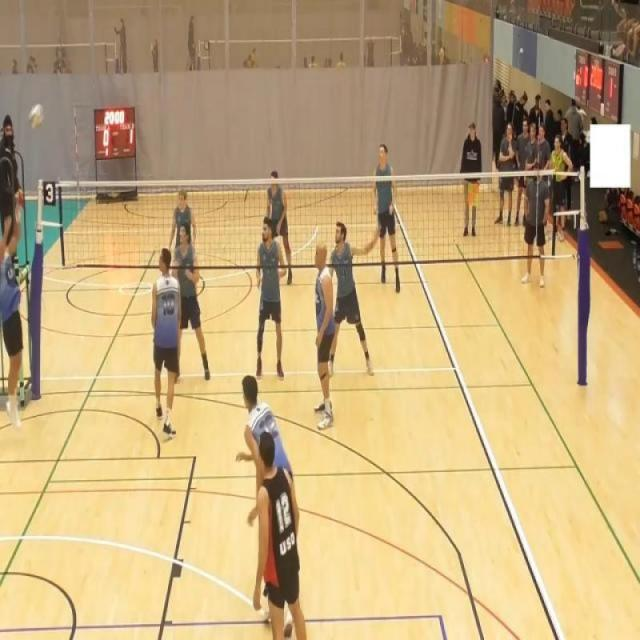volleyball: (28, 102, 44, 130)
